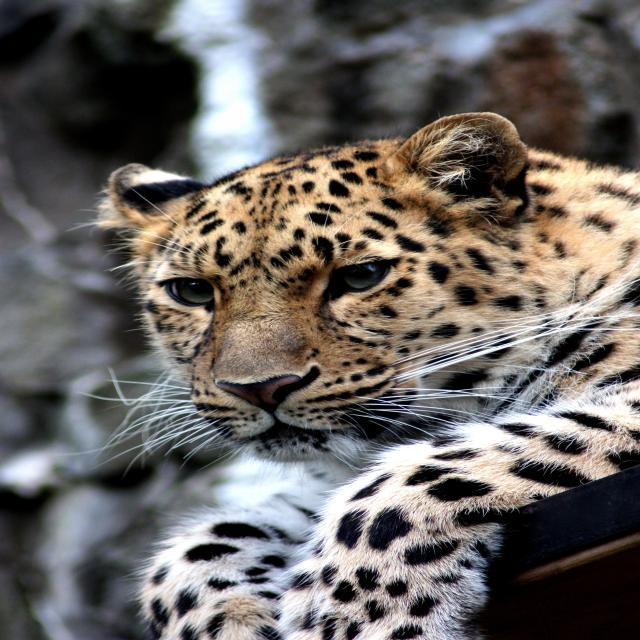animal: (99, 109, 640, 640)
